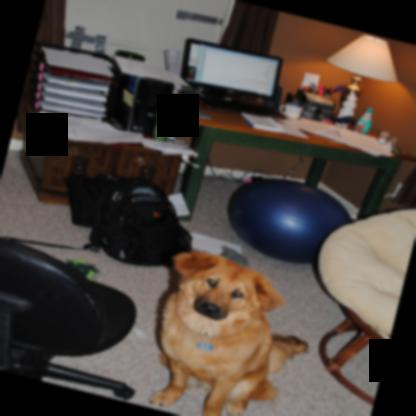backpack: (84, 171, 192, 270)
